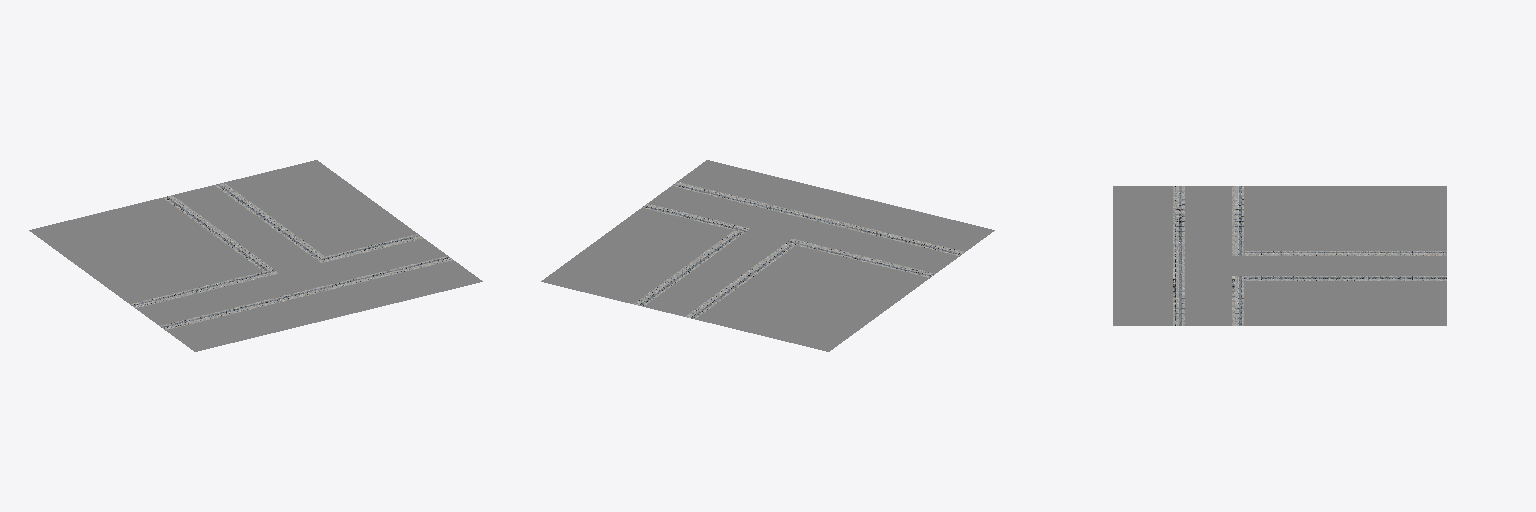
3 views of the same model, side by side, from view 1: azimuth 30°, elevation 25°; view 2: azimuth 150°, elevation 25°; view 3: azimuth 270°, elevation 25° (orthographic).
Visible parts, largest first — view 1: Plane011, Plane012, Plane003, Plane014, Plane015, Plane013, Plane021, Plane023, Plane019, Plane017, Plane018, Plane020 (+3 smaller); view 2: Plane011, Plane012, Plane015, Plane003, Plane014, Plane013, Plane022, Plane017, Plane019, Plane020, Plane018, Plane023 (+3 smaller); view 3: Plane011, Plane012, Plane003, Plane013, Plane014, Plane015, Plane017, Plane019, Plane018, Plane020, Plane021, Plane022 (+3 smaller).
Boxes of the visible parts, box(x1,y1,x2,y2) form: Plane011: box(29, 198, 262, 303); Plane012: box(224, 160, 417, 255); Plane003: box(227, 300, 317, 336); Plane014: box(289, 285, 379, 321); Plane015: box(351, 270, 441, 306); Plane013: box(165, 316, 255, 351); Plane021: box(301, 253, 385, 285); Plane023: box(177, 283, 261, 315); Plane019: box(244, 237, 319, 272); Plane017: box(173, 185, 248, 220); Plane018: box(209, 211, 283, 246); Plane020: box(362, 238, 447, 270); Plane011: box(695, 246, 929, 351); Plane012: box(541, 208, 733, 303); Plane015: box(719, 170, 808, 206); Plane003: box(843, 200, 932, 236); Plane014: box(781, 185, 870, 221); Plane013: box(905, 215, 994, 251); Plane022: box(771, 216, 855, 248); Plane017: box(644, 281, 719, 316); Plane019: box(715, 229, 790, 264); Plane020: box(648, 186, 732, 217); Plane018: box(680, 255, 754, 290); Plane023: box(833, 231, 917, 263); Plane011: box(1244, 186, 1446, 250); Plane012: box(1244, 281, 1446, 325); Plane003: box(1113, 216, 1172, 245); Plane013: box(1113, 186, 1172, 215); Plane014: box(1113, 246, 1172, 275); Plane015: box(1113, 276, 1172, 305); Plane017: box(1375, 256, 1446, 275); Plane019: box(1232, 256, 1303, 275); Plane018: box(1304, 256, 1374, 275); Plane020: box(1185, 296, 1231, 325); Plane021: box(1185, 266, 1231, 295); Plane022: box(1185, 236, 1231, 265).
Bounding box in the file's own units: 140 × 0 × 140.
3 materials, 1 textured.